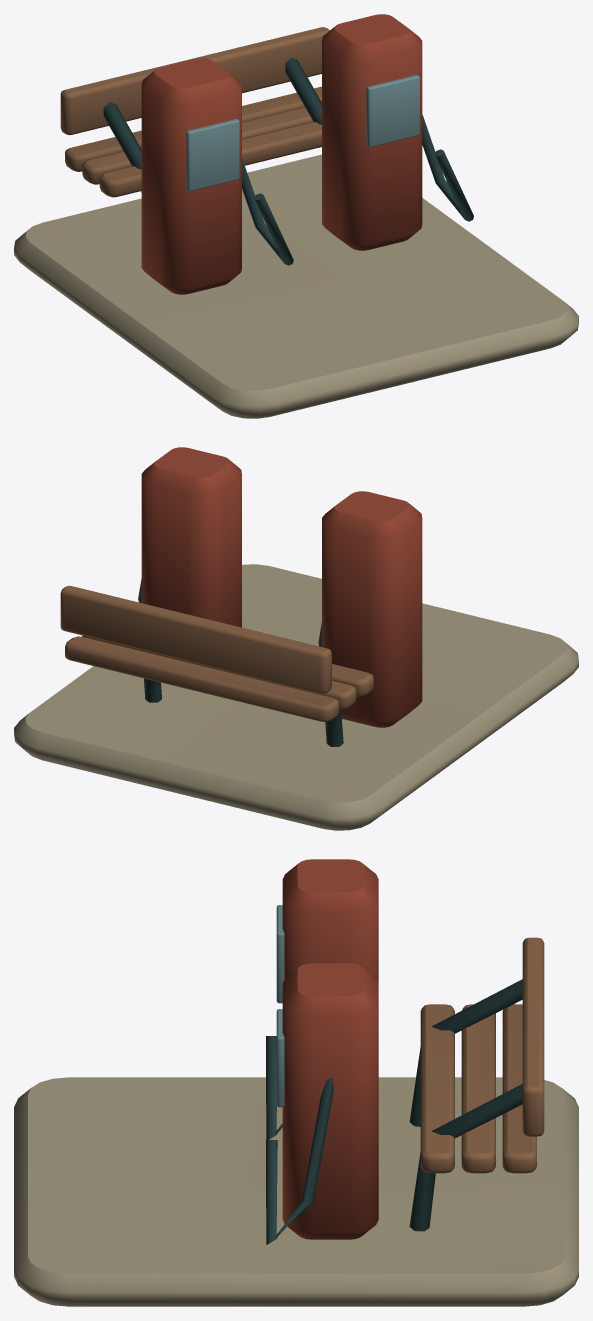
The model's file is valley_fuel_1.glb.
The picture shows the model from 3 angles, top to bottom: view 1: azimuth 30°, elevation 25°; view 2: azimuth 150°, elevation 25°; view 3: azimuth 270°, elevation 25°; orthographic projection. The views are drawn at different scales.
Visible parts, largest first — view 1: Fuel1; view 2: Fuel1; view 3: Fuel1.
Boxes of the visible parts, x1,y1,x2,y2 form: Fuel1: (14,14,578,418); Fuel1: (14,447,578,830); Fuel1: (14,859,578,1306).
Bounding box in the file's own units: 2.16 × 1.36 × 2.48.
